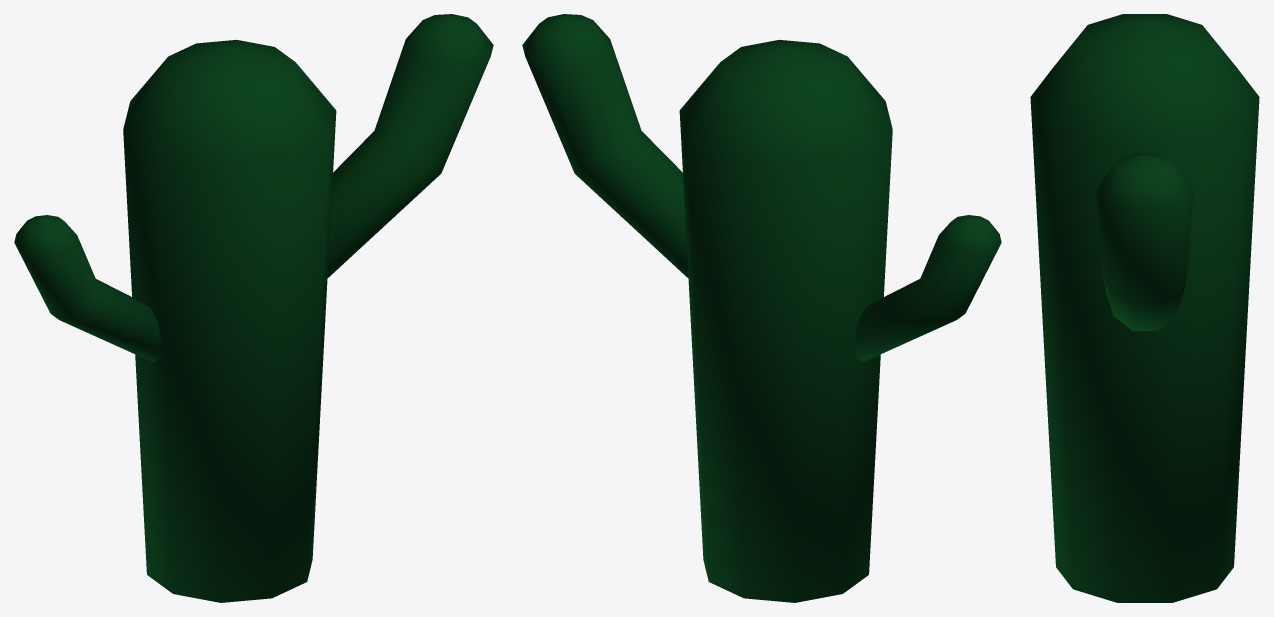
Rendered from cactus_medium.FBX.
The picture shows the model from 3 angles, left to right: view 1: azimuth 30°, elevation 25°; view 2: azimuth 150°, elevation 25°; view 3: azimuth 270°, elevation 25°; orthographic projection. The views are drawn at different scales.
Visible parts, largest first — view 1: Sphere003; view 2: Sphere003; view 3: Sphere003.
Boxes of the visible parts, box(x1,y1,x2,y2) form: Sphere003: box(14, 14, 493, 602); Sphere003: box(522, 14, 1001, 602); Sphere003: box(1030, 14, 1259, 602).
Size of the model in its own units: 65.41 by 69.43 by 26.42.
